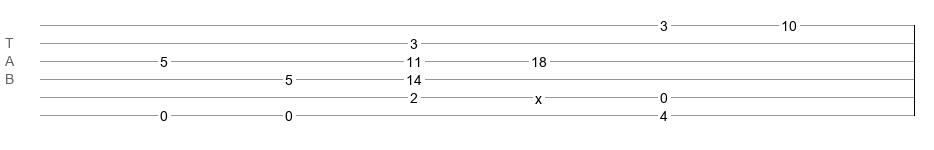0: (160, 108, 168, 118), (285, 108, 293, 118), (660, 90, 668, 100)
10: (781, 18, 797, 28)
11: (406, 54, 422, 64)
14: (406, 72, 422, 82)
18: (531, 54, 547, 64)
2: (410, 90, 418, 100)
3: (410, 36, 418, 46), (660, 18, 668, 28)
4: (660, 108, 668, 118)
5: (160, 54, 168, 64), (285, 72, 293, 82)
x: (535, 91, 542, 99)
